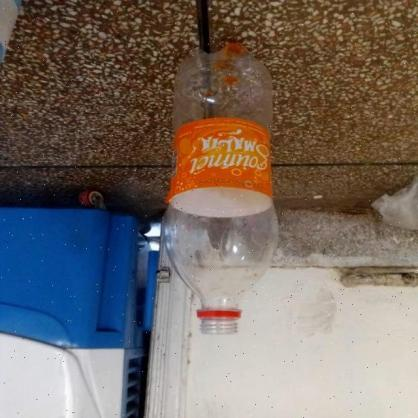bottle: (161, 44, 285, 346)
label: (162, 118, 289, 222)
